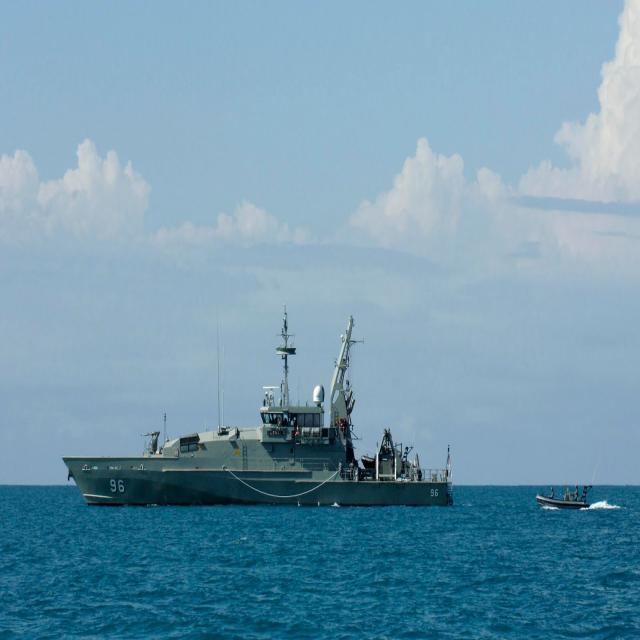navalvessels: (59, 302, 456, 528)
